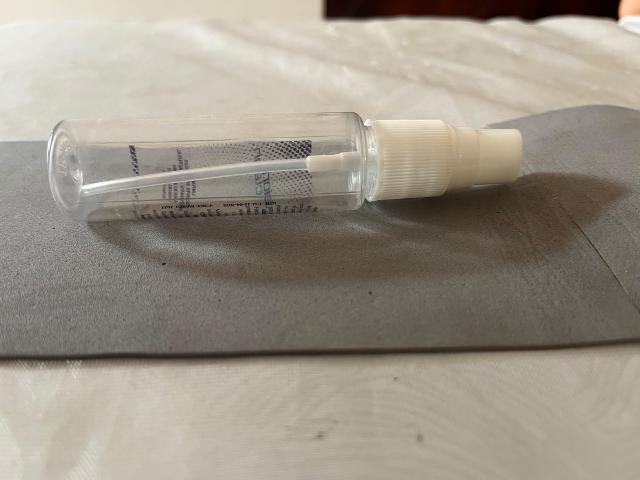PET: (11, 55, 568, 261)
